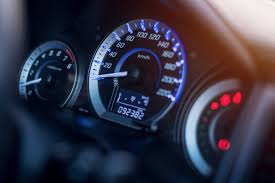Digital_Meter: (103, 88, 157, 121)
